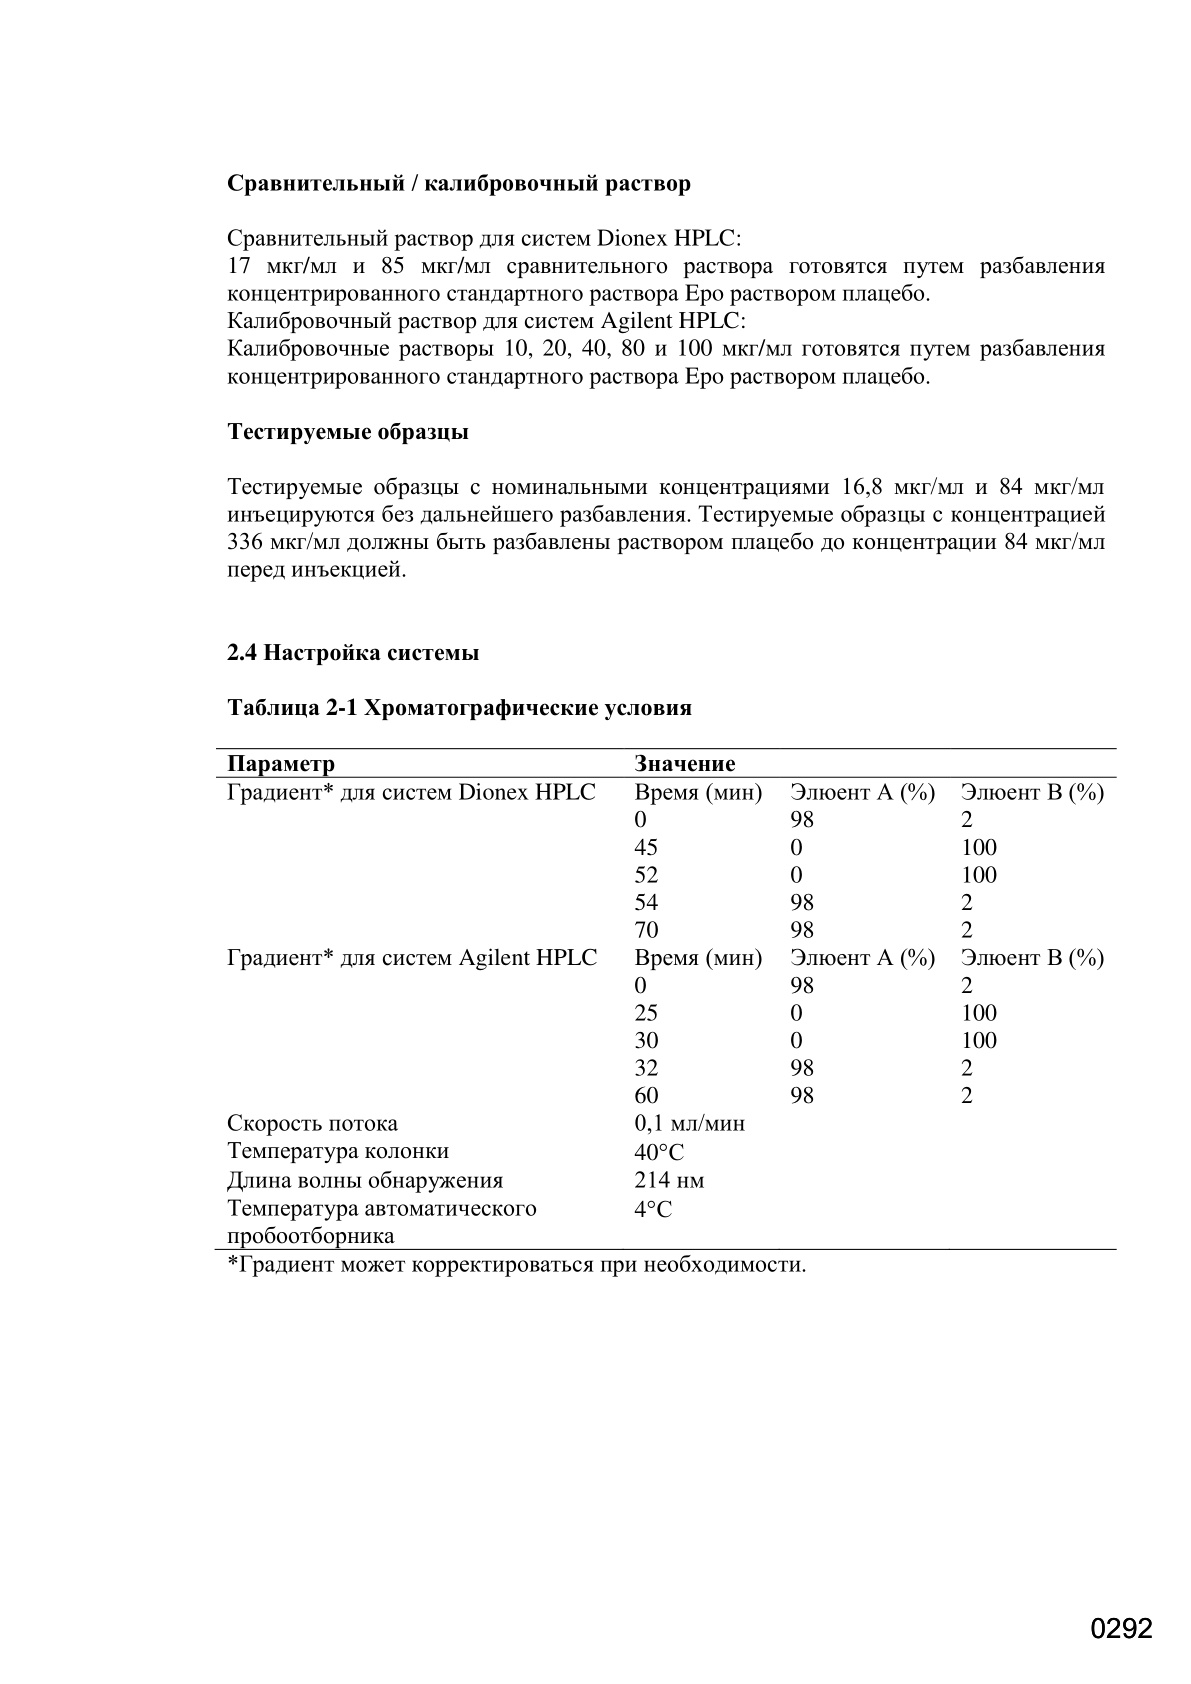partial_lined: (215, 745, 1121, 1252)
